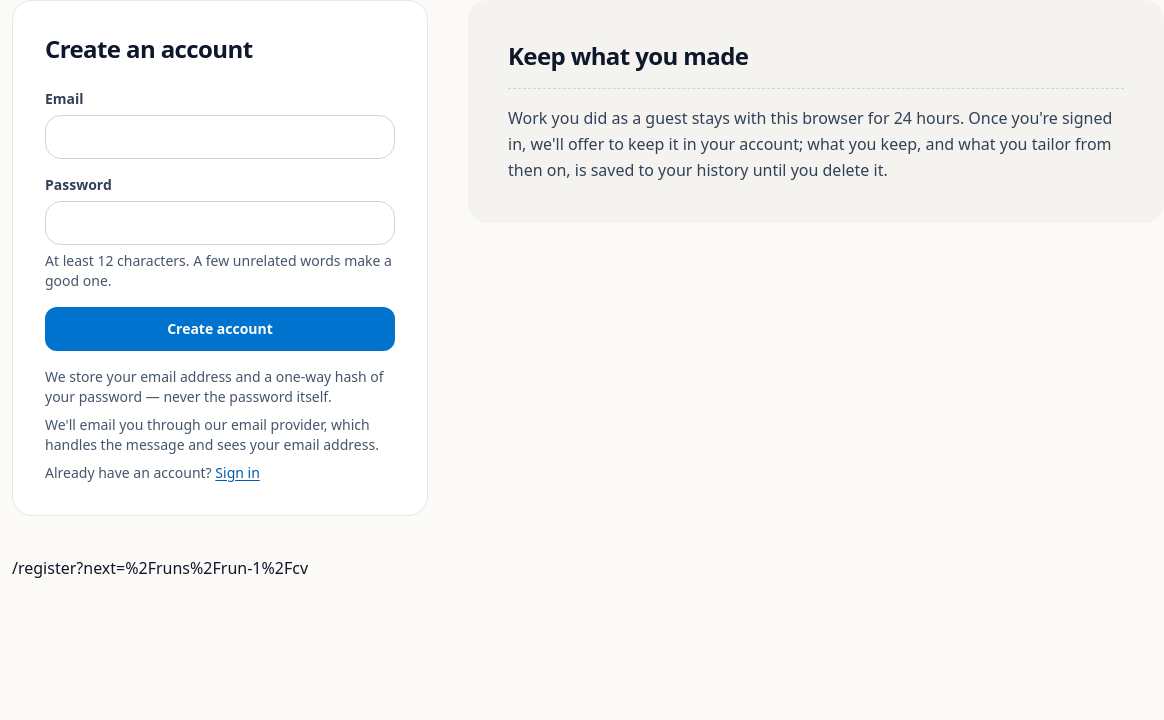
Test: /register after a 202 › replaces the form: the heading shows, the fields and the submit button are gone, and the URL does not change
Type "alex.marker@example.com" into the field labelled "Email".
click(220, 137); type("alex.marker@example.com")  # box [45,115,395,159]
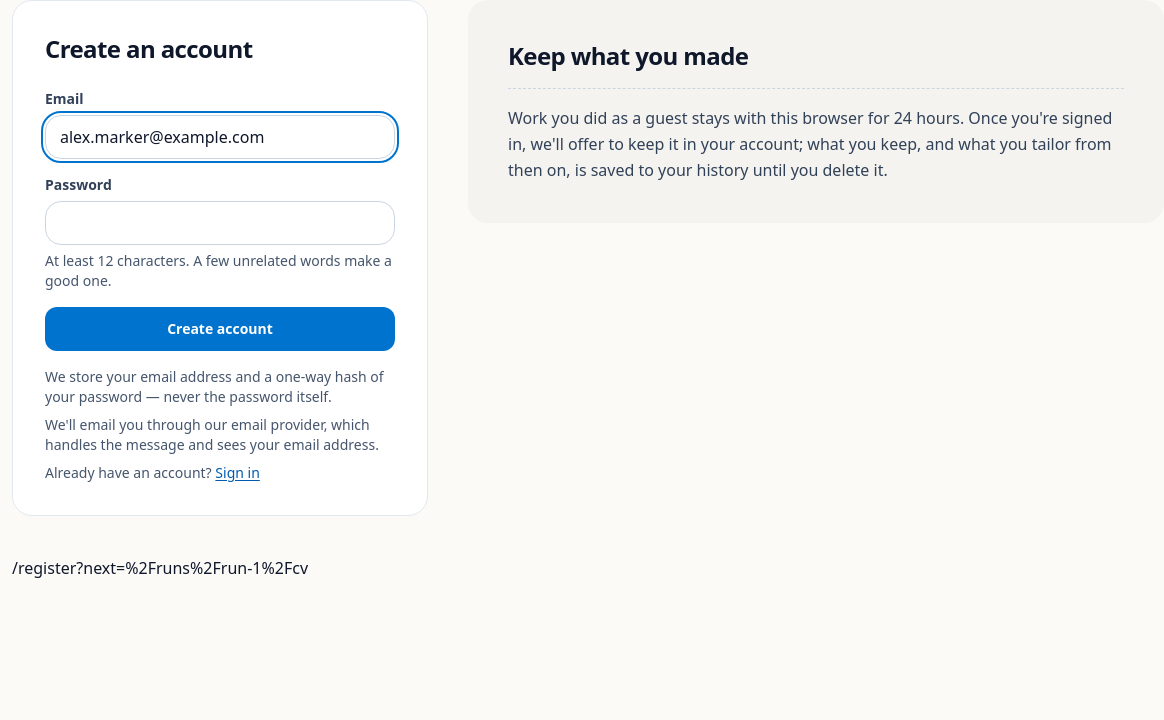
Type "a very long real password" into the password field labelled "Password".
click(220, 223); type("a very long real password")  # box [45,201,395,245]
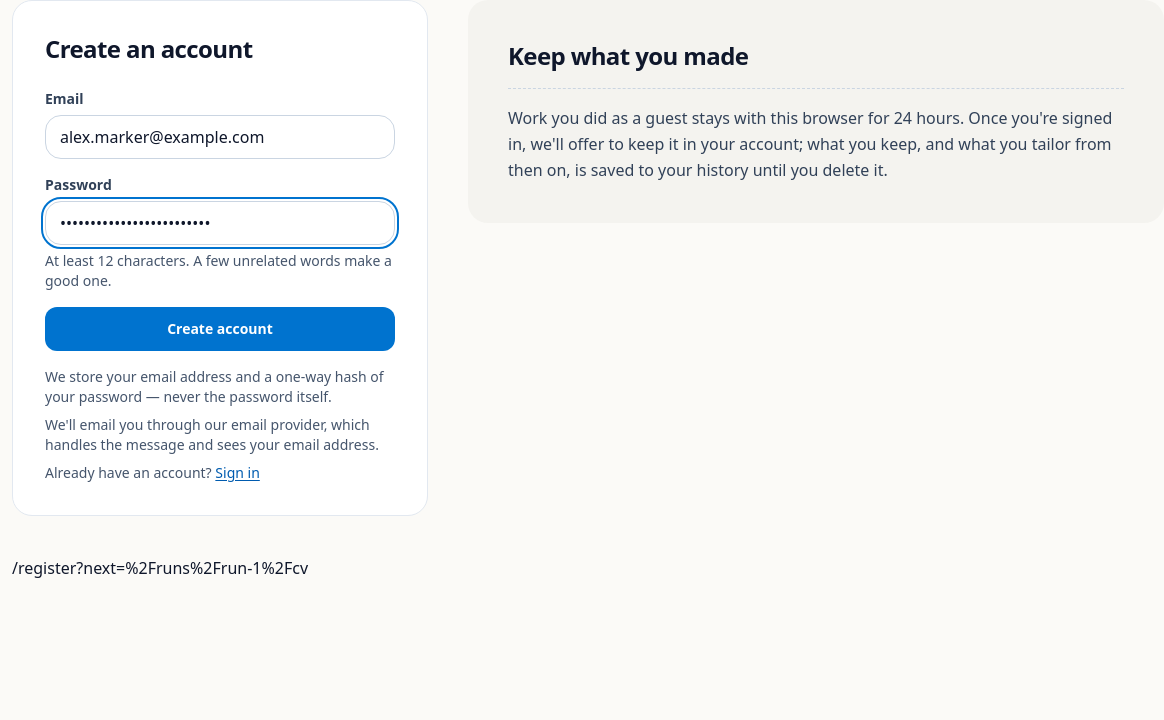
Click the button "Create account".
click(220, 329)  # box [45,307,395,351]
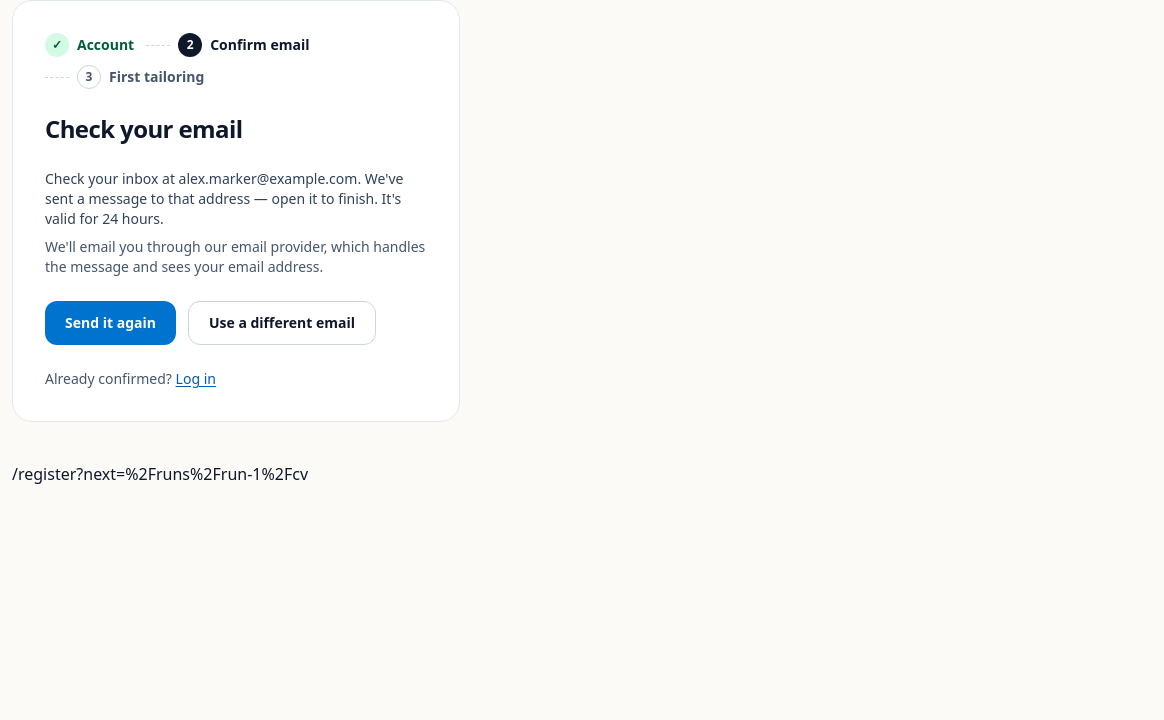
Now the heading "Check your email" is shown, box [45,112,242,145]
Now the label labelled "Password" is gone
Now the button "Create account" is gone
